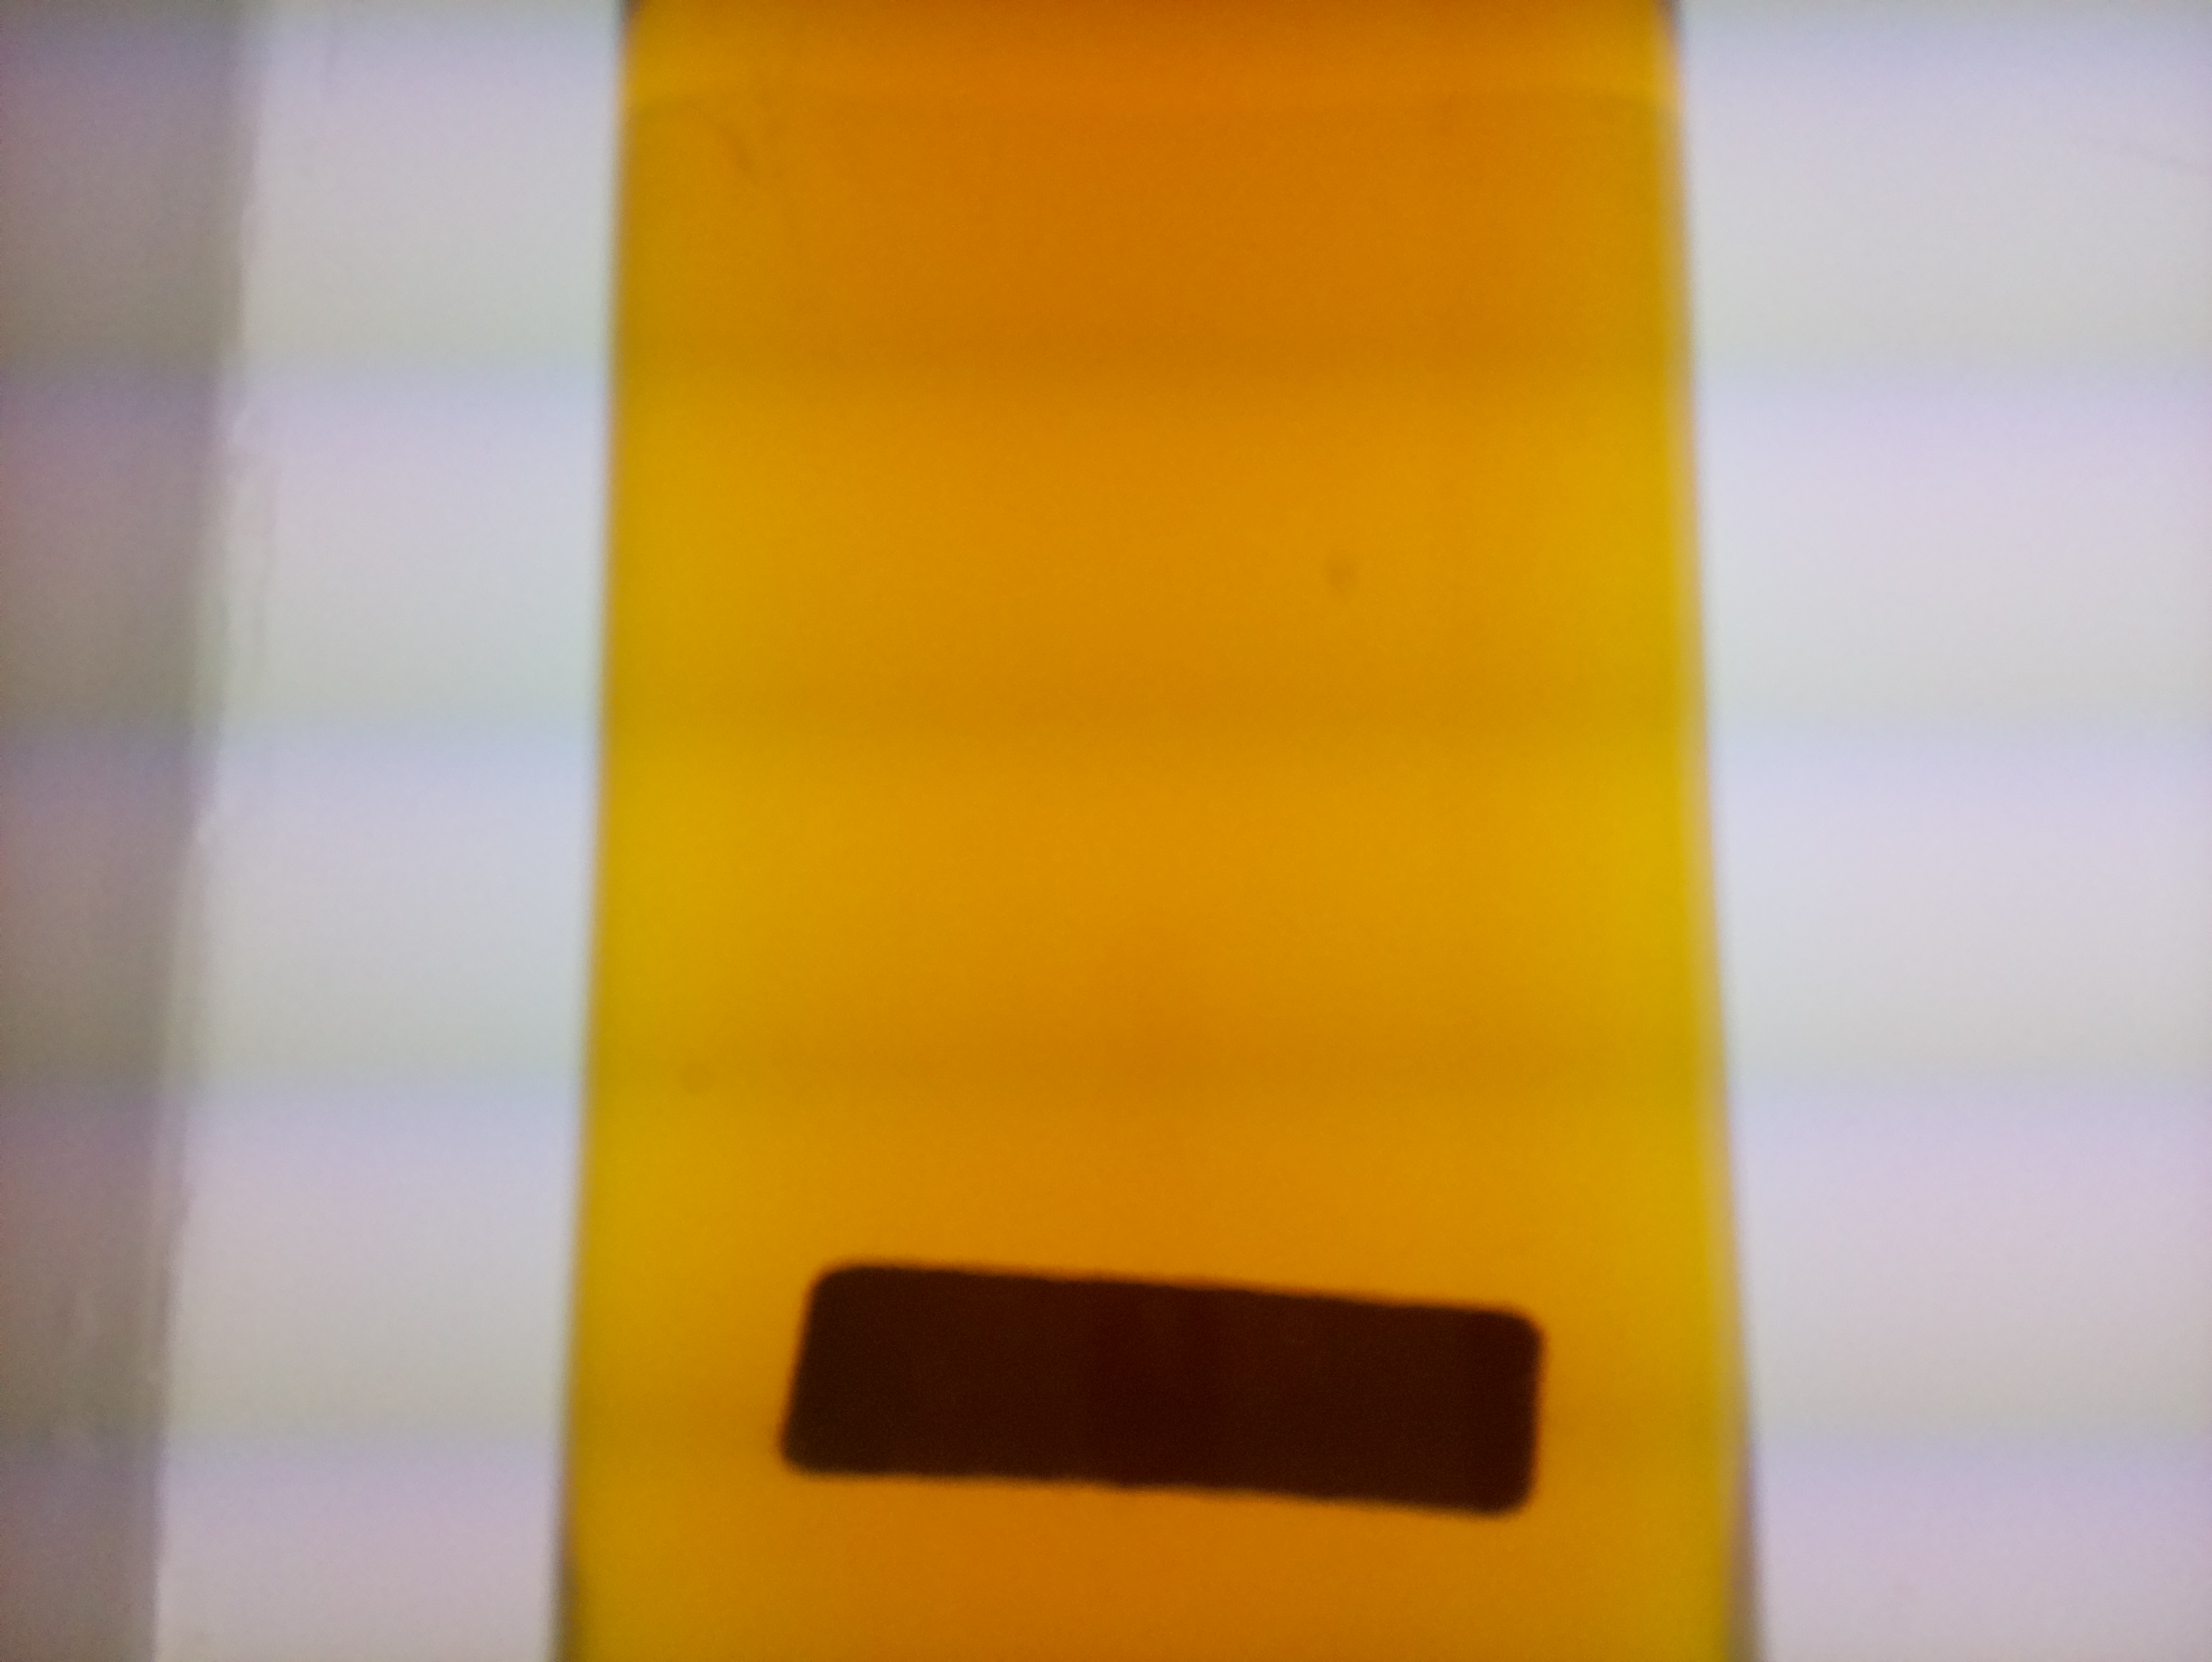colored_area: (587, 16, 1744, 1653)
